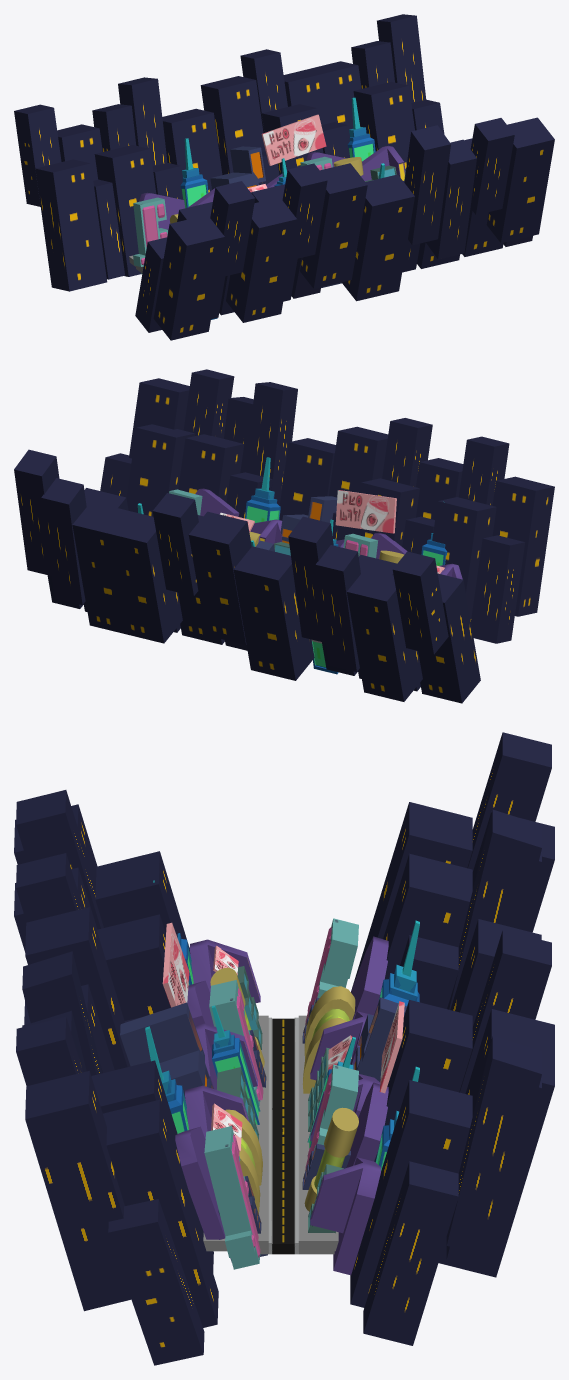
The model's file is CityBackground.fbx.
The picture shows the model from 3 angles, top to bottom: view 1: azimuth 30°, elevation 25°; view 2: azimuth 150°, elevation 25°; view 3: azimuth 270°, elevation 25°; orthographic projection. The views are drawn at different scales.
Parts seen in each view (by area): view 1: polySurface86, polySurface79, polySurface18, polySurface19, polySurface92, polySurface37, polySurface13, polySurface76, polySurface54, polySurface90, polySurface35, polySurface93 (+31 smaller); view 2: polySurface57, polySurface83, polySurface58, polySurface76, polySurface79, polySurface87, polySurface86, polySurface80, polySurface84, polySurface13, polySurface95, polySurface74 (+29 smaller); view 3: polySurface92, polySurface89, Road, polySurface91, polySurface95, polySurface94, polySurface90, polySurface52, polySurface54, polySurface69, polySurface37, polySurface75 (+43 smaller).
Boxes of the visible parts, left/top/right/bottom form: polySurface86: left=35, top=159, right=107, bottom=291; polySurface79: left=153, top=215, right=224, bottom=340; polySurface18: left=341, top=174, right=414, bottom=301; polySurface19: left=226, top=197, right=297, bottom=322; polySurface92: left=486, top=117, right=554, bottom=243; polySurface37: left=300, top=163, right=367, bottom=288; polySurface13: left=404, top=125, right=450, bottom=245; polySurface76: left=200, top=76, right=265, bottom=174; polySurface54: left=94, top=145, right=156, bottom=276; polySurface90: left=353, top=81, right=414, bottom=170; polySurface35: left=425, top=139, right=476, bottom=259; polySurface93: left=470, top=118, right=514, bottom=214; polySurface57: left=233, top=546, right=314, bottom=680; polySurface83: left=347, top=568, right=422, bottom=701; polySurface58: left=106, top=510, right=182, bottom=643; polySurface76: left=188, top=511, right=251, bottom=644; polySurface79: left=492, top=476, right=554, bottom=616; polySurface87: left=72, top=501, right=129, bottom=635; polySurface86: left=418, top=573, right=480, bottom=703; polySurface80: left=471, top=535, right=525, bottom=643; polySurface84: left=392, top=551, right=448, bottom=654; polySurface13: left=245, top=382, right=297, bottom=505; polySurface95: left=126, top=424, right=195, bottom=516; polySurface74: left=315, top=545, right=360, bottom=671; polySurface92: left=25, top=1071, right=131, bottom=1311; polySurface89: left=446, top=1036, right=541, bottom=1260; Road: left=203, top=1015, right=338, bottom=1254; polySurface91: left=363, top=1161, right=458, bottom=1345; polySurface95: left=103, top=1099, right=218, bottom=1327; polySurface94: left=108, top=1199, right=204, bottom=1365; polySurface90: left=350, top=1080, right=472, bottom=1307; polySurface52: left=447, top=809, right=541, bottom=1009; polySurface54: left=383, top=853, right=472, bottom=979; polySurface69: left=374, top=1000, right=472, bottom=1162; polySurface37: left=25, top=907, right=130, bottom=1069; polySurface75: left=459, top=930, right=551, bottom=1093.
Size of the model in its own units: 438 by 174 by 281.
